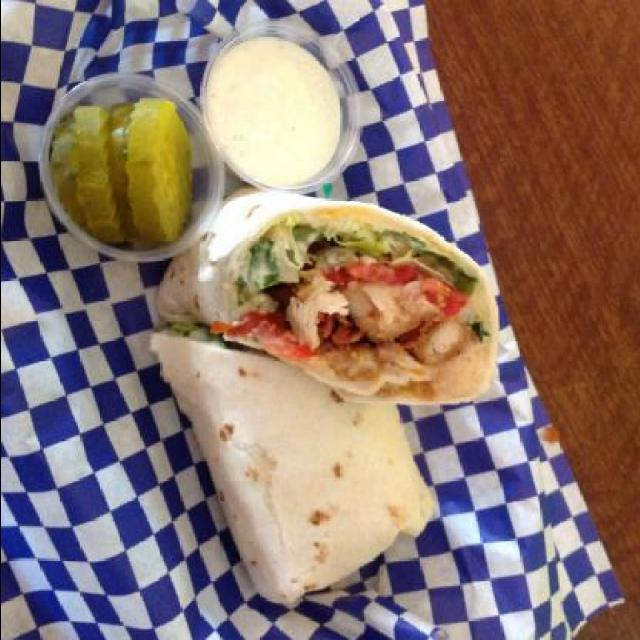Sandwich: (150, 180, 499, 603)
